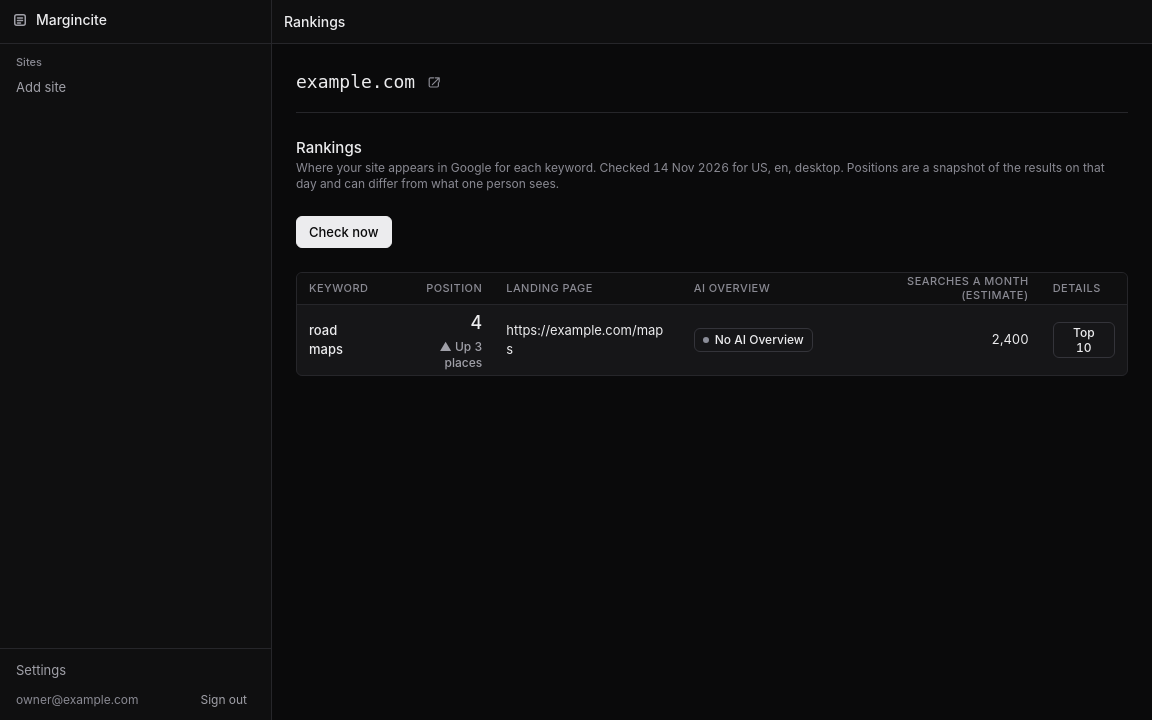
a keyword with no saved results says so in the detail
Step 1. Click the button with aria-label "Show top 10 for road maps" → (1084,340), box [1053,322,1115,358]
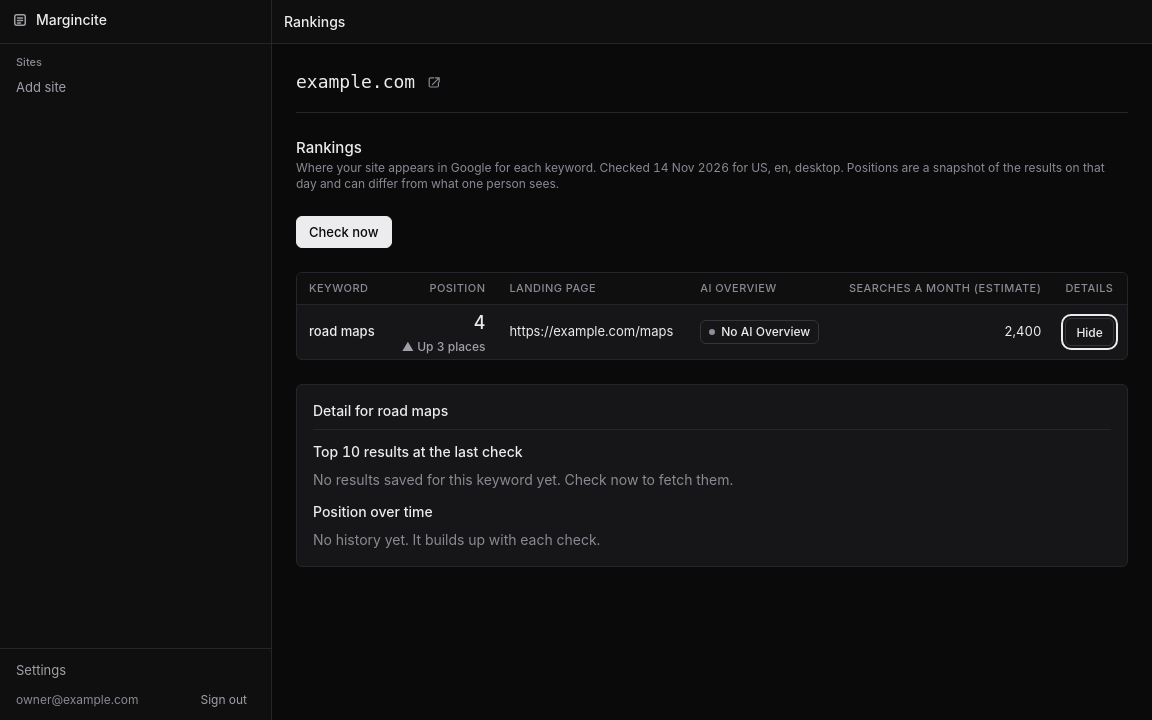
Result: the text "No results saved" is shown at [313,471,733,488]
Result: the text "No history yet. It builds up with each check." is shown at [313,531,600,548]
